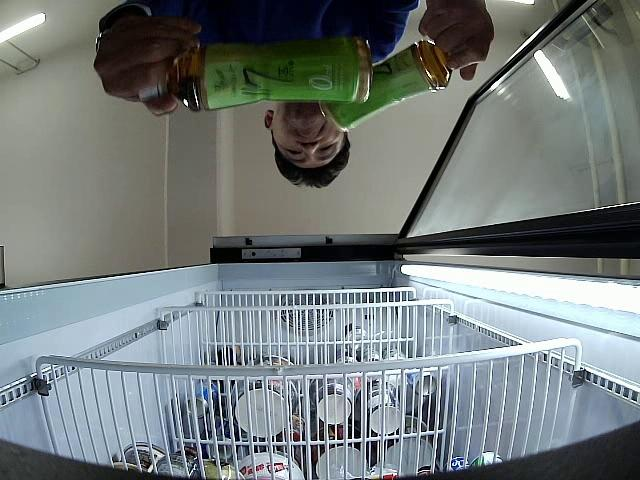00_hand: (94, 5, 199, 111), (420, 1, 495, 82)
19_17cha: (139, 38, 374, 107), (321, 38, 450, 130)
